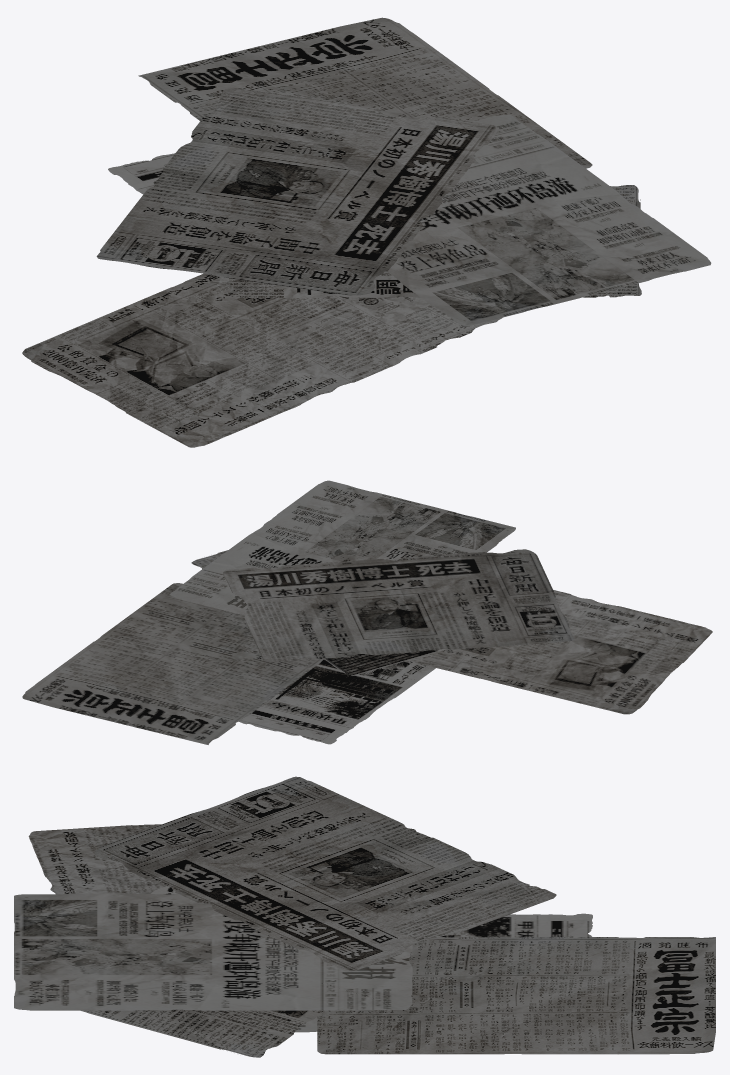
File: Newspaper4.fbx
3 renders of one model, top to bottom at view 1: azimuth 30°, elevation 25°; view 2: azimuth 150°, elevation 25°; view 3: azimuth 270°, elevation 25°, orthographic. The views are drawn at different scales.
Parts seen in each view (by area): view 1: polySurface4; view 2: polySurface4; view 3: polySurface4.
Boxes of the visible parts, x1,y1,x2,y2 form: polySurface4: (22,17,711,447); polySurface4: (22,480,712,744); polySurface4: (14,776,715,1057).
Size of the model in its own units: 4.97 by 0.6685 by 5.21.
